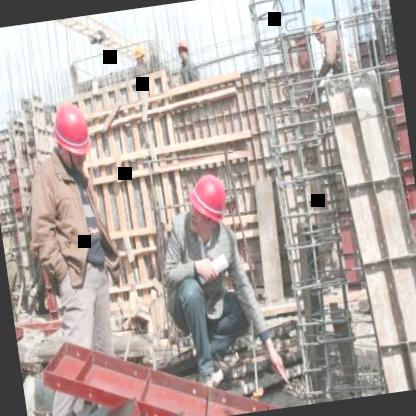helmet: (47, 94, 96, 176), (182, 168, 235, 239), (309, 8, 330, 48), (174, 37, 192, 68), (131, 42, 146, 68)
